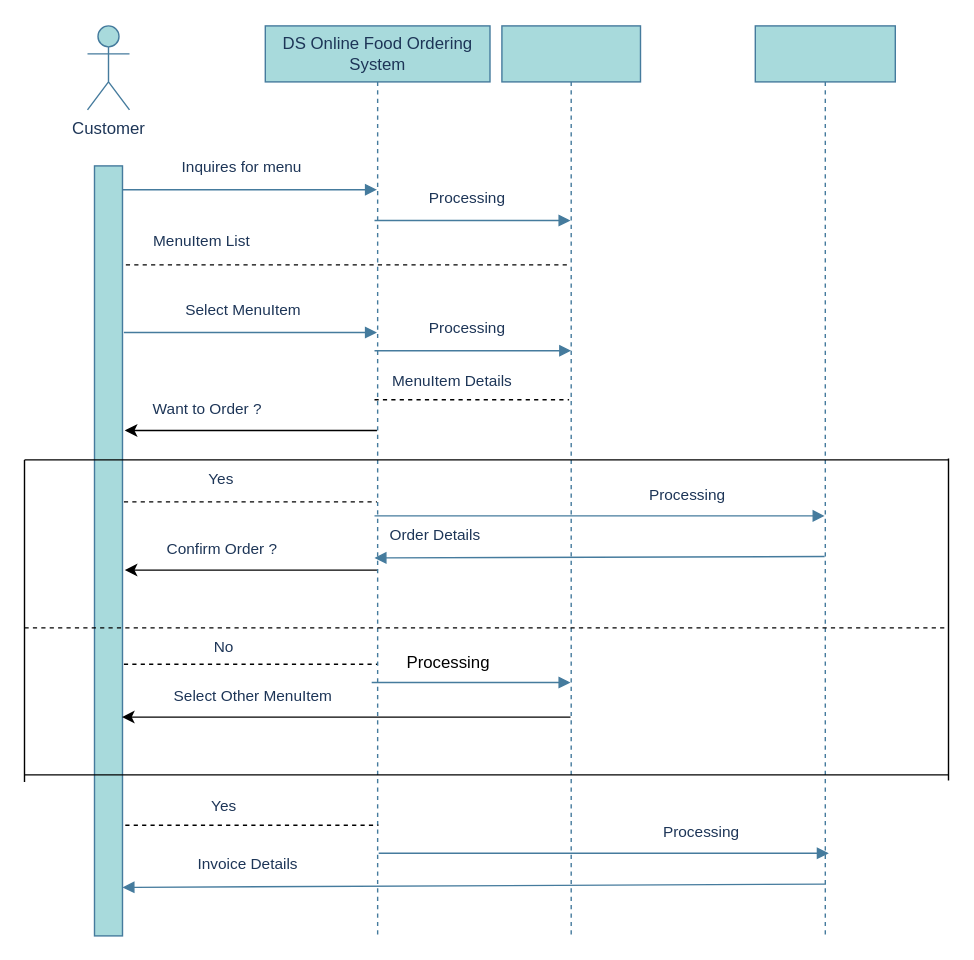
The diagram is 974 pixels wide and 960 high, and some of its shapes have lost their labels. Each missing label, with the box of its shape:
MenuItem AddtoCart / Checkout: (500, 24, 640, 936)
Ordering Management: (754, 24, 895, 936)
